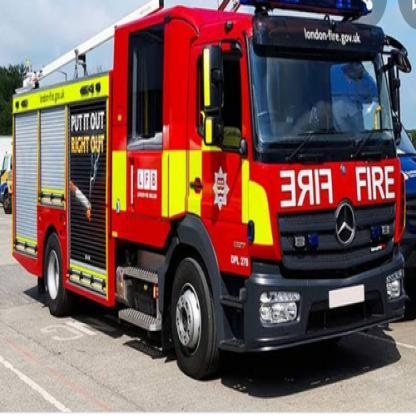fire-truck: (27, 17, 408, 380)
